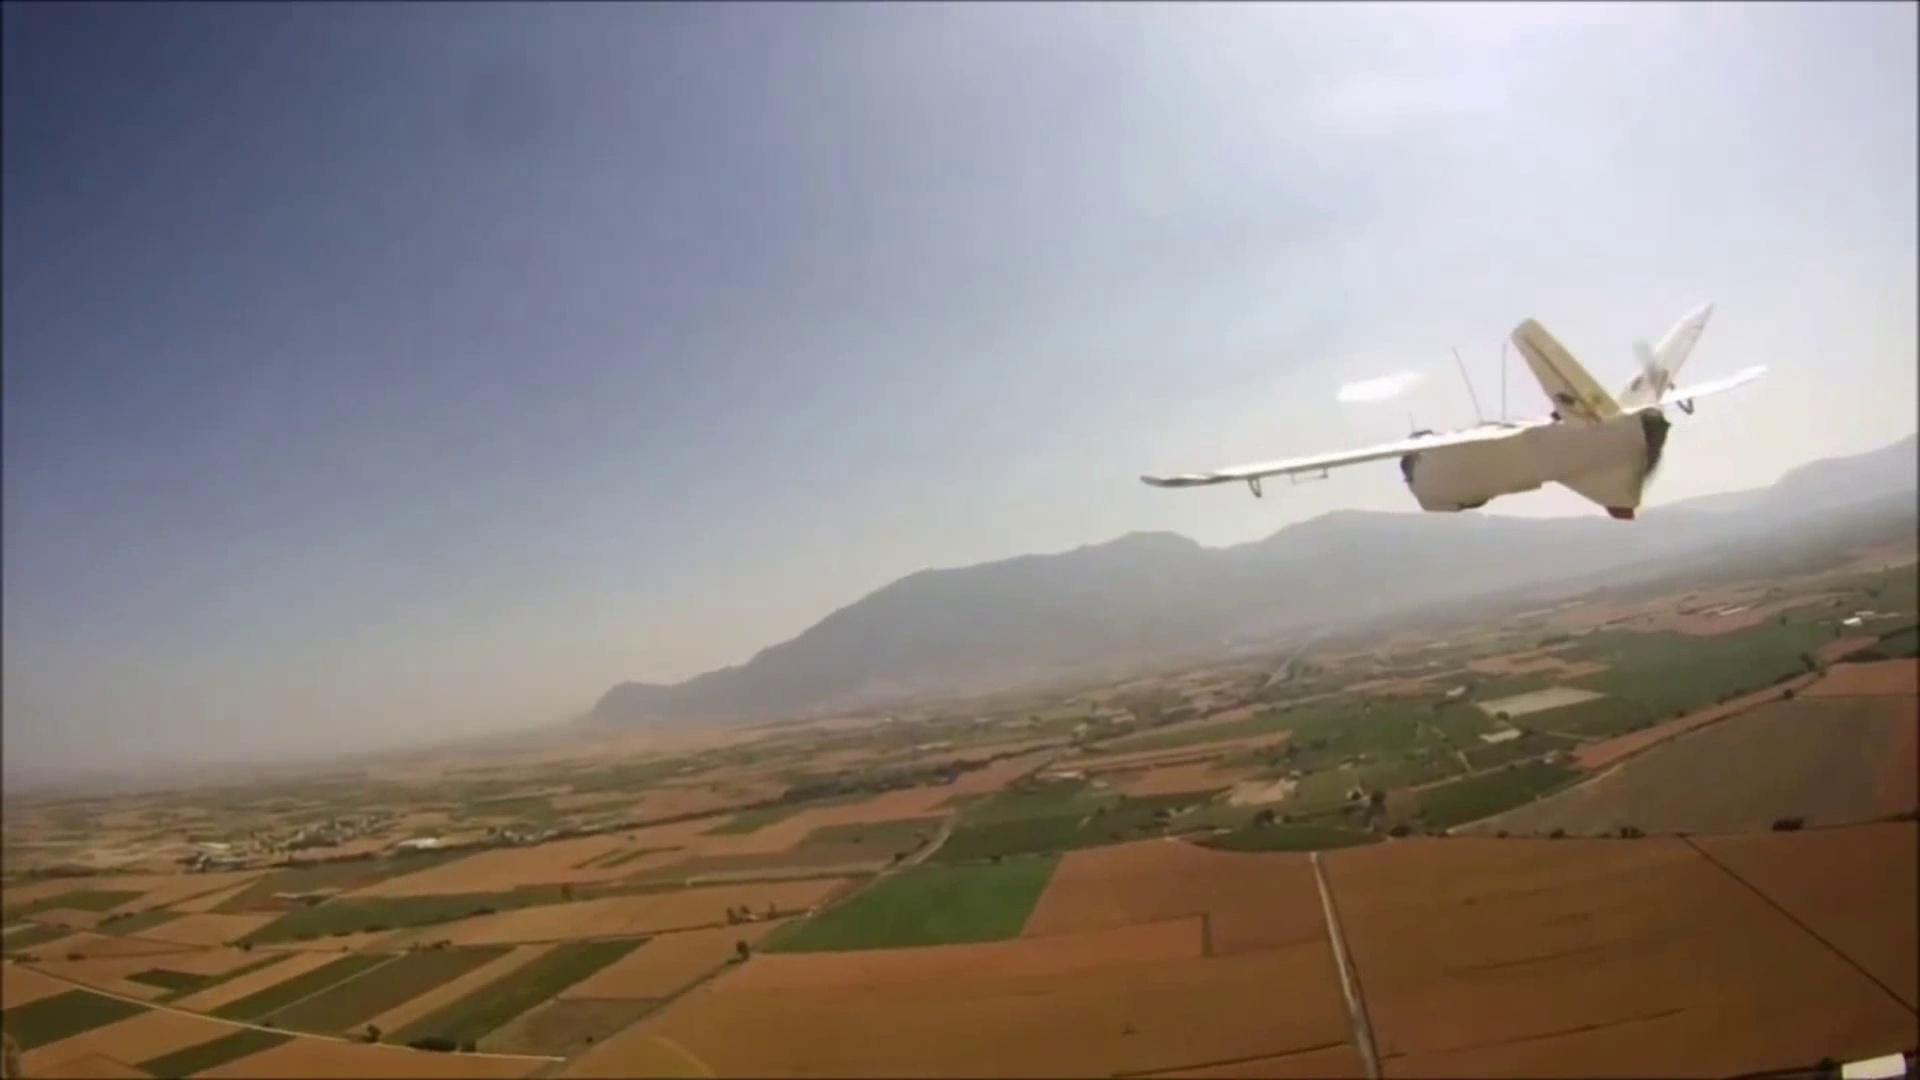airplane: (1142, 300, 1771, 523)
